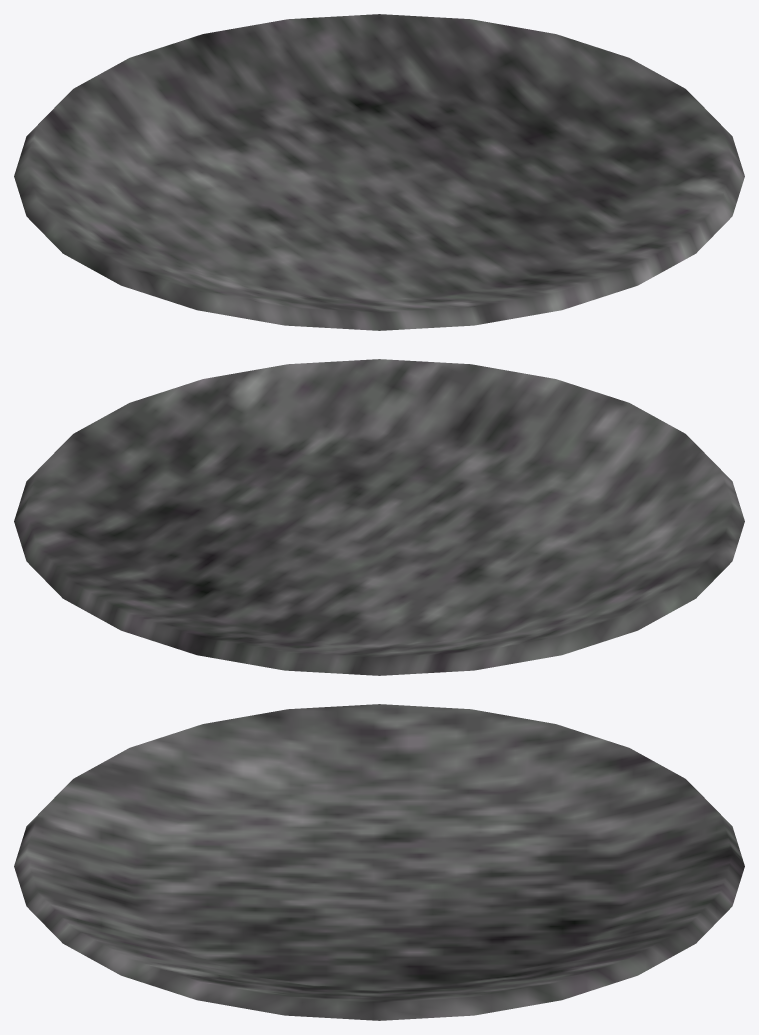
The model's file is sm24_019_plate01a.fbx.
3 views of the same model, one above another, from view 1: azimuth 30°, elevation 25°; view 2: azimuth 150°, elevation 25°; view 3: azimuth 270°, elevation 25° (orthographic).
Parts seen in each view (by area): view 1: LOD_1_Group_0_Sub_1__sm24_019_plate01A_A_Mat; view 2: LOD_1_Group_0_Sub_1__sm24_019_plate01A_A_Mat; view 3: LOD_1_Group_0_Sub_1__sm24_019_plate01A_A_Mat.
Boxes of the visible parts, bbox=[...] form: LOD_1_Group_0_Sub_1__sm24_019_plate01A_A_Mat: bbox=[14, 14, 744, 330]; LOD_1_Group_0_Sub_1__sm24_019_plate01A_A_Mat: bbox=[14, 359, 744, 675]; LOD_1_Group_0_Sub_1__sm24_019_plate01A_A_Mat: bbox=[14, 704, 744, 1020].
Size of the model in its own units: 0.3838 by 0.031 by 0.3838.
